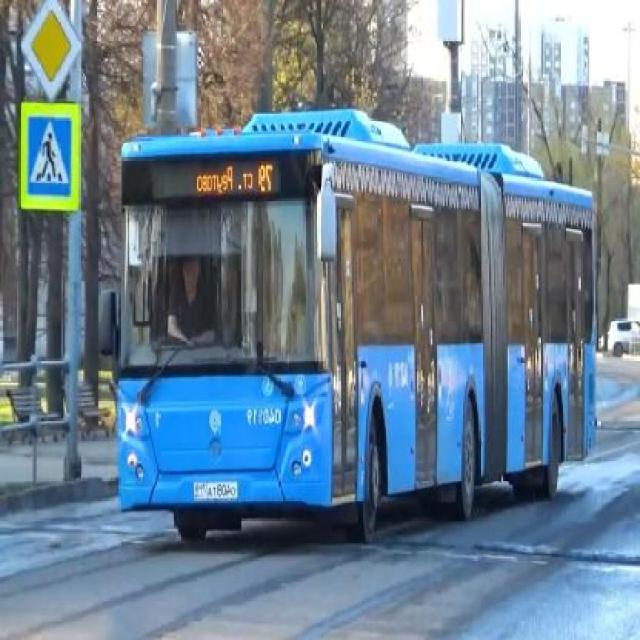bus: (118, 111, 594, 542)
